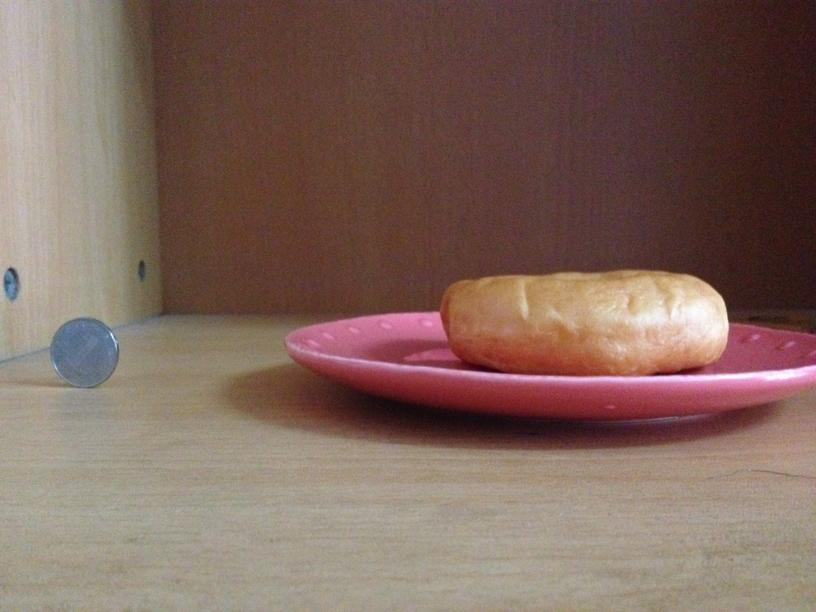coin: (435, 267, 728, 375)
doughnut: (435, 267, 728, 375)
